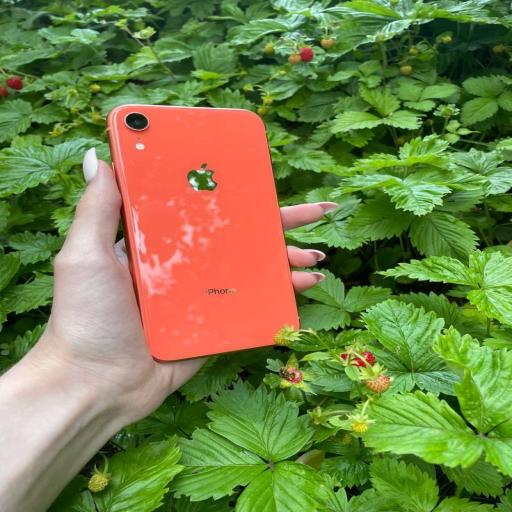curb: (104, 104, 301, 365)
